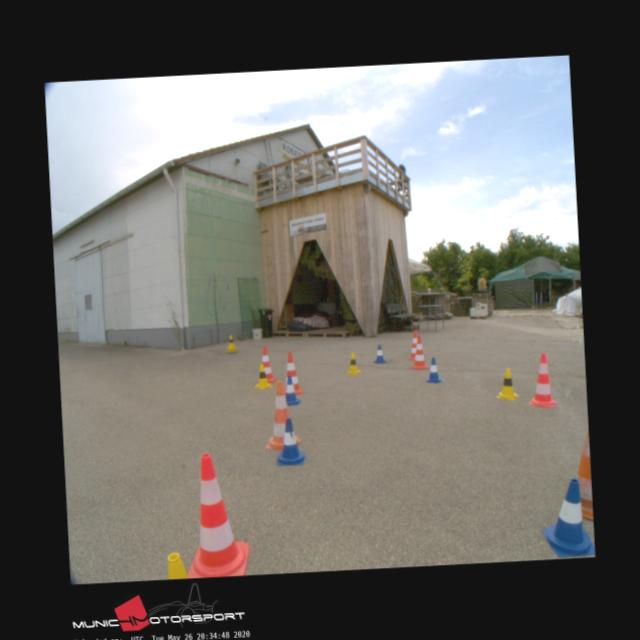blue_cone: (540, 478, 594, 558), (275, 418, 305, 464), (282, 375, 300, 404), (426, 357, 442, 382), (373, 344, 385, 362)
large_orange_cone: (182, 452, 251, 578), (262, 380, 300, 450), (575, 428, 593, 522), (528, 352, 556, 408), (281, 351, 303, 394), (409, 334, 429, 370), (258, 345, 276, 382), (408, 330, 422, 359)
yellow_cone: (496, 366, 520, 401), (254, 364, 272, 388), (346, 352, 361, 373), (226, 333, 235, 348)
